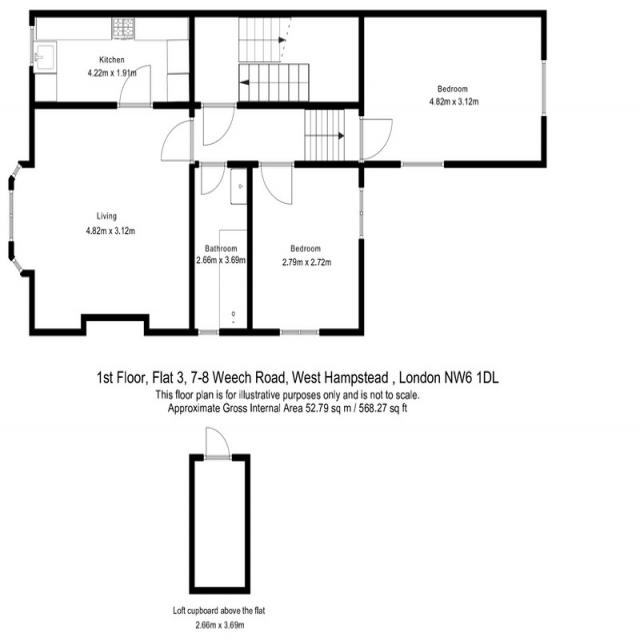DOOR: (160, 115, 195, 165), (257, 160, 295, 206), (200, 101, 238, 147), (358, 114, 393, 163), (116, 63, 153, 109), (198, 160, 228, 196)
ROOM: (8, 64, 195, 337), (358, 9, 547, 168), (247, 160, 365, 336), (29, 9, 196, 110)
WINDOW: (7, 188, 15, 243), (358, 186, 365, 241), (279, 328, 320, 337), (400, 160, 445, 168), (541, 59, 547, 117), (28, 24, 36, 67), (10, 255, 24, 275), (10, 161, 23, 180), (197, 328, 220, 336)
